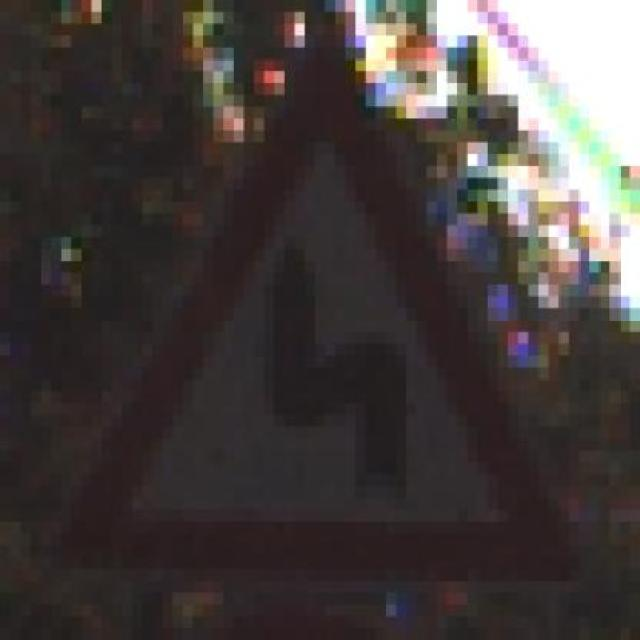Left Zig Zag Traffic: (41, 35, 579, 592)
